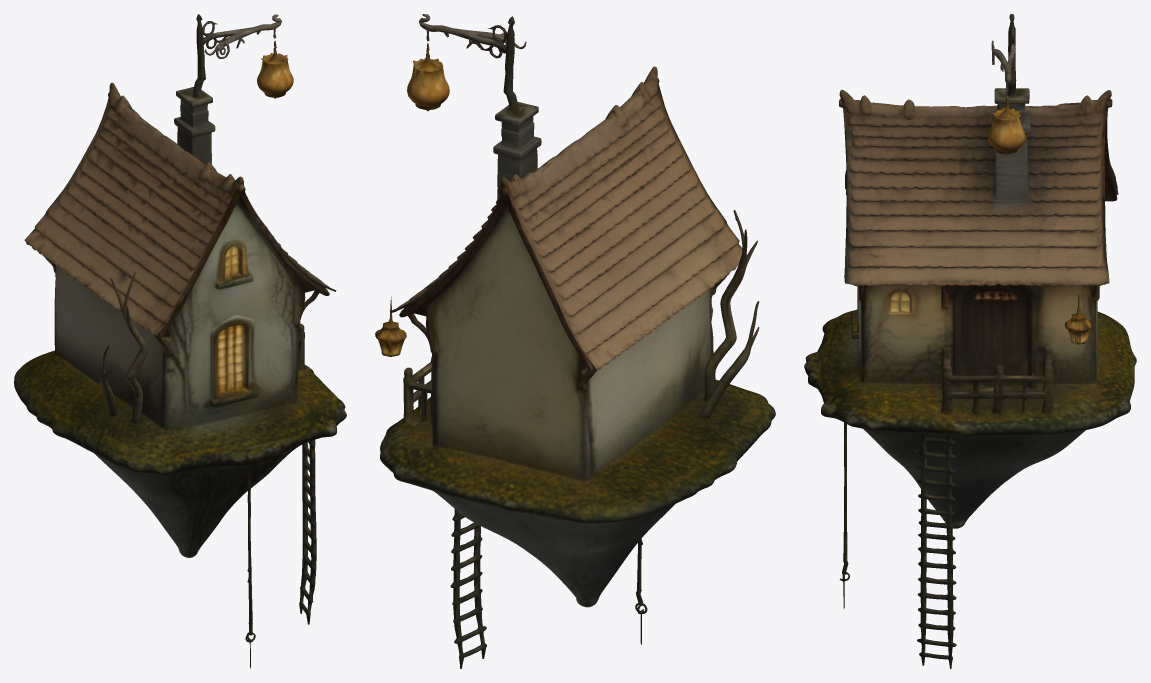
File: floating-house.glb
3 views of the same model, side by side, from view 1: azimuth 30°, elevation 25°; view 2: azimuth 150°, elevation 25°; view 3: azimuth 270°, elevation 25° (orthographic). The views are drawn at different scales.
Parts seen in each view (by area): view 1: material; view 2: material; view 3: material.
Boxes of the visible parts, bbox=[...] form: material: bbox=[14, 14, 346, 668]; material: bbox=[375, 14, 775, 668]; material: bbox=[804, 14, 1136, 668].
Bounding box in the file's own units: 0.5042 × 1.12 × 0.5444.
Materials: 1 (1 with a texture image).
